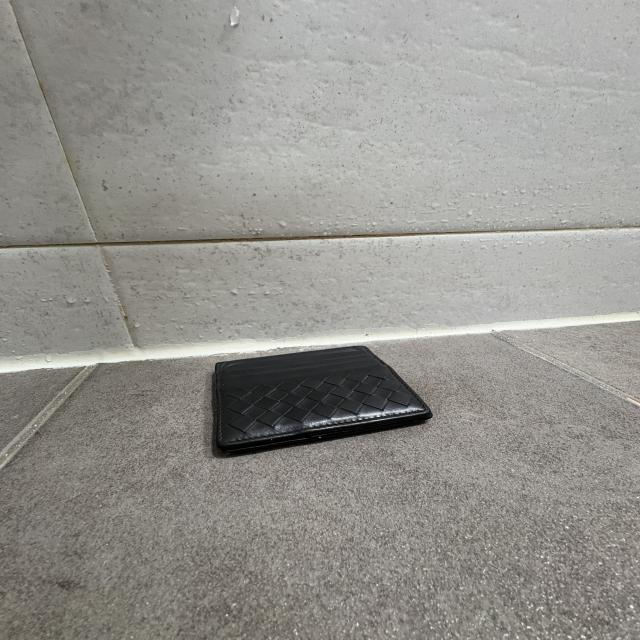wallet: (210, 346, 436, 459)
